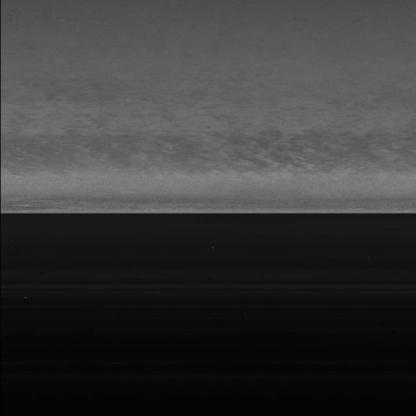silk_spot: (107, 131, 332, 176)
